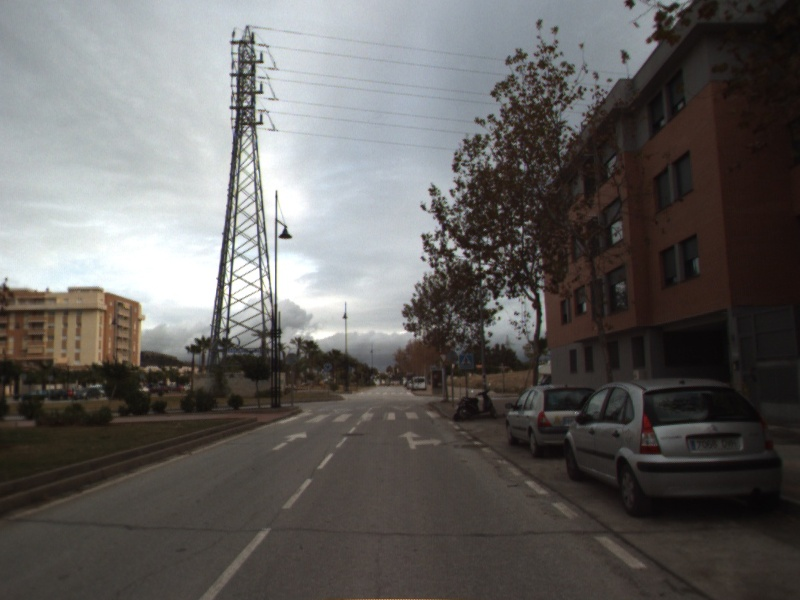STRAIGHT: (270, 429, 309, 452)
STRAIGHT_RIGHT: (396, 429, 444, 451)
